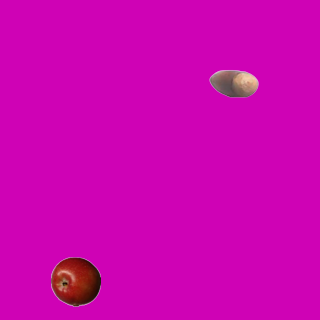Apple Braeburn: (50, 256, 100, 306)
Hazelnut: (208, 58, 258, 108)
